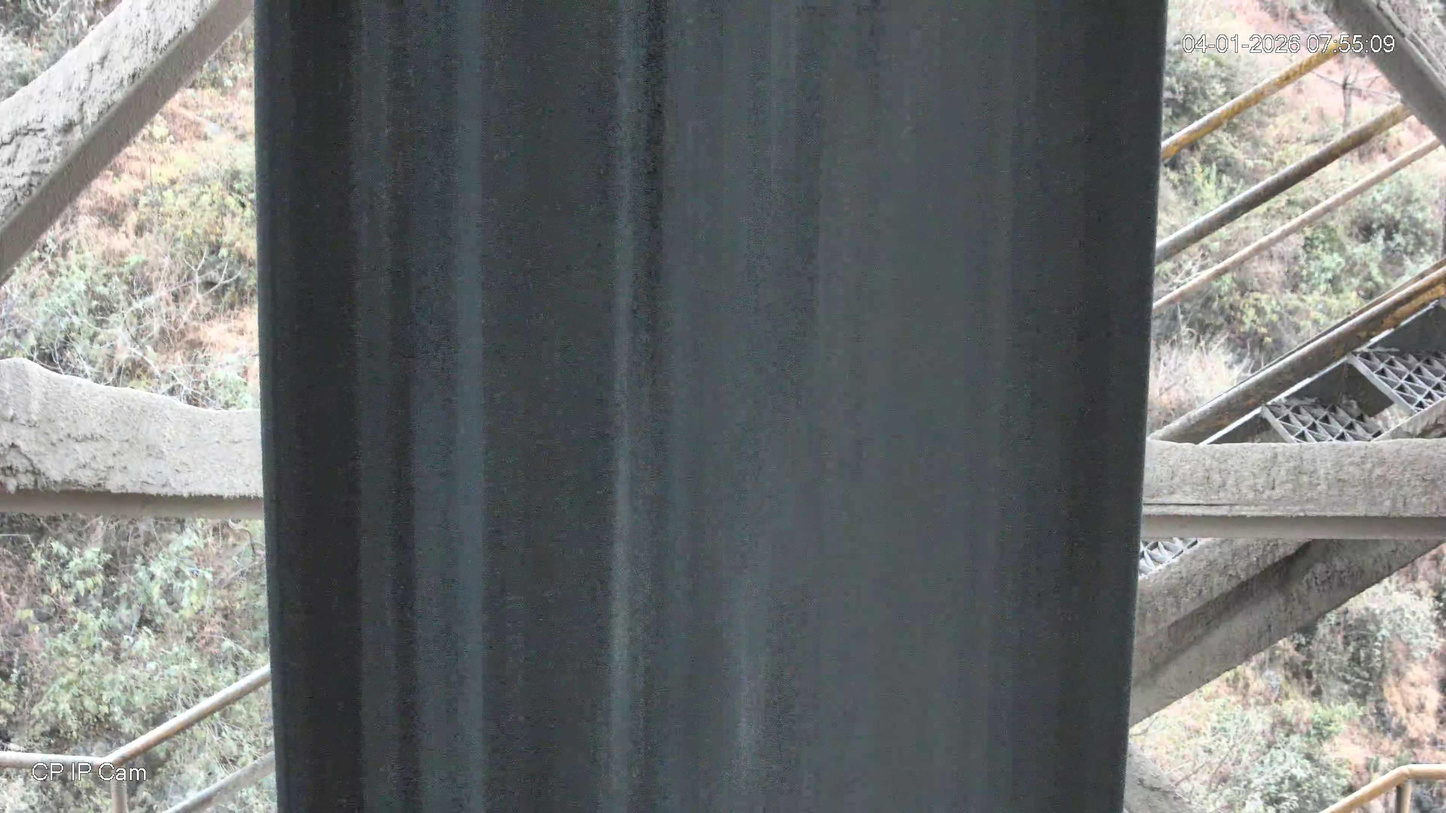belt_roi: (254, 0, 1165, 813)
